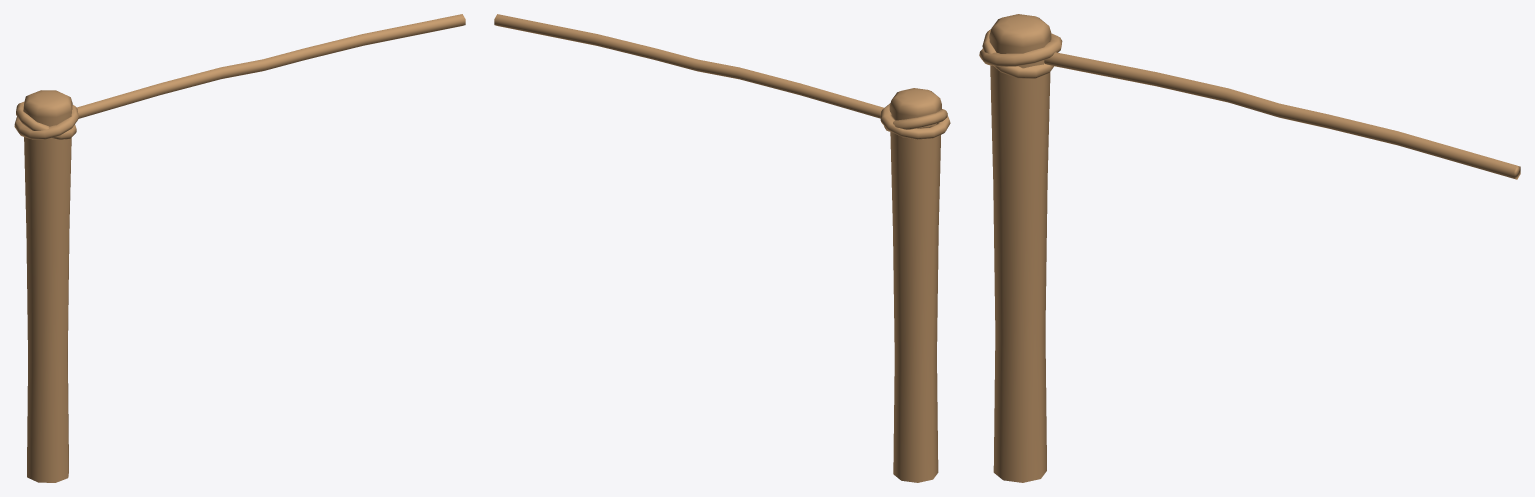
The model's file is Fence.fbx.
3 views of the same model, side by side, from view 1: azimuth 30°, elevation 25°; view 2: azimuth 150°, elevation 25°; view 3: azimuth 330°, elevation 25° (orthographic). The views are drawn at different scales.
Visible parts, largest first — view 1: scaf_support17, scaf_rail13, rope_tie2, rope_tie3; view 2: scaf_support17, scaf_rail13, rope_tie2, rope_tie3; view 3: scaf_support17, scaf_rail13, rope_tie2, rope_tie3.
Part boxes in pixels (left/top/right/bottom): scaf_support17: left=23, top=90, right=72, bottom=482; scaf_rail13: left=76, top=14, right=465, bottom=118; rope_tie2: left=14, top=105, right=78, bottom=139; rope_tie3: left=16, top=102, right=76, bottom=139; scaf_support17: left=889, top=88, right=941, bottom=482; scaf_rail13: left=494, top=14, right=883, bottom=118; rope_tie2: left=880, top=103, right=950, bottom=139; rope_tie3: left=884, top=109, right=947, bottom=131; scaf_support17: left=989, top=14, right=1051, bottom=482; scaf_rail13: left=1044, top=52, right=1520, bottom=179; rope_tie2: left=979, top=33, right=1062, bottom=66; rope_tie3: left=982, top=29, right=1053, bottom=78.
Bounding box in the file's own units: 2.4 × 1.95 × 0.3207.
